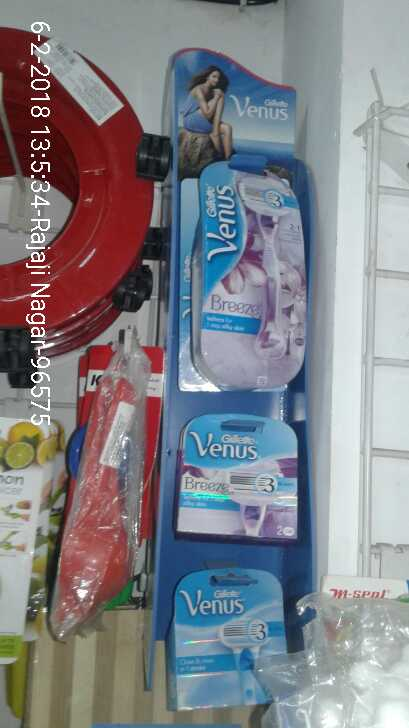venus: (191, 161, 314, 385), (166, 574, 300, 704), (174, 406, 305, 537)
